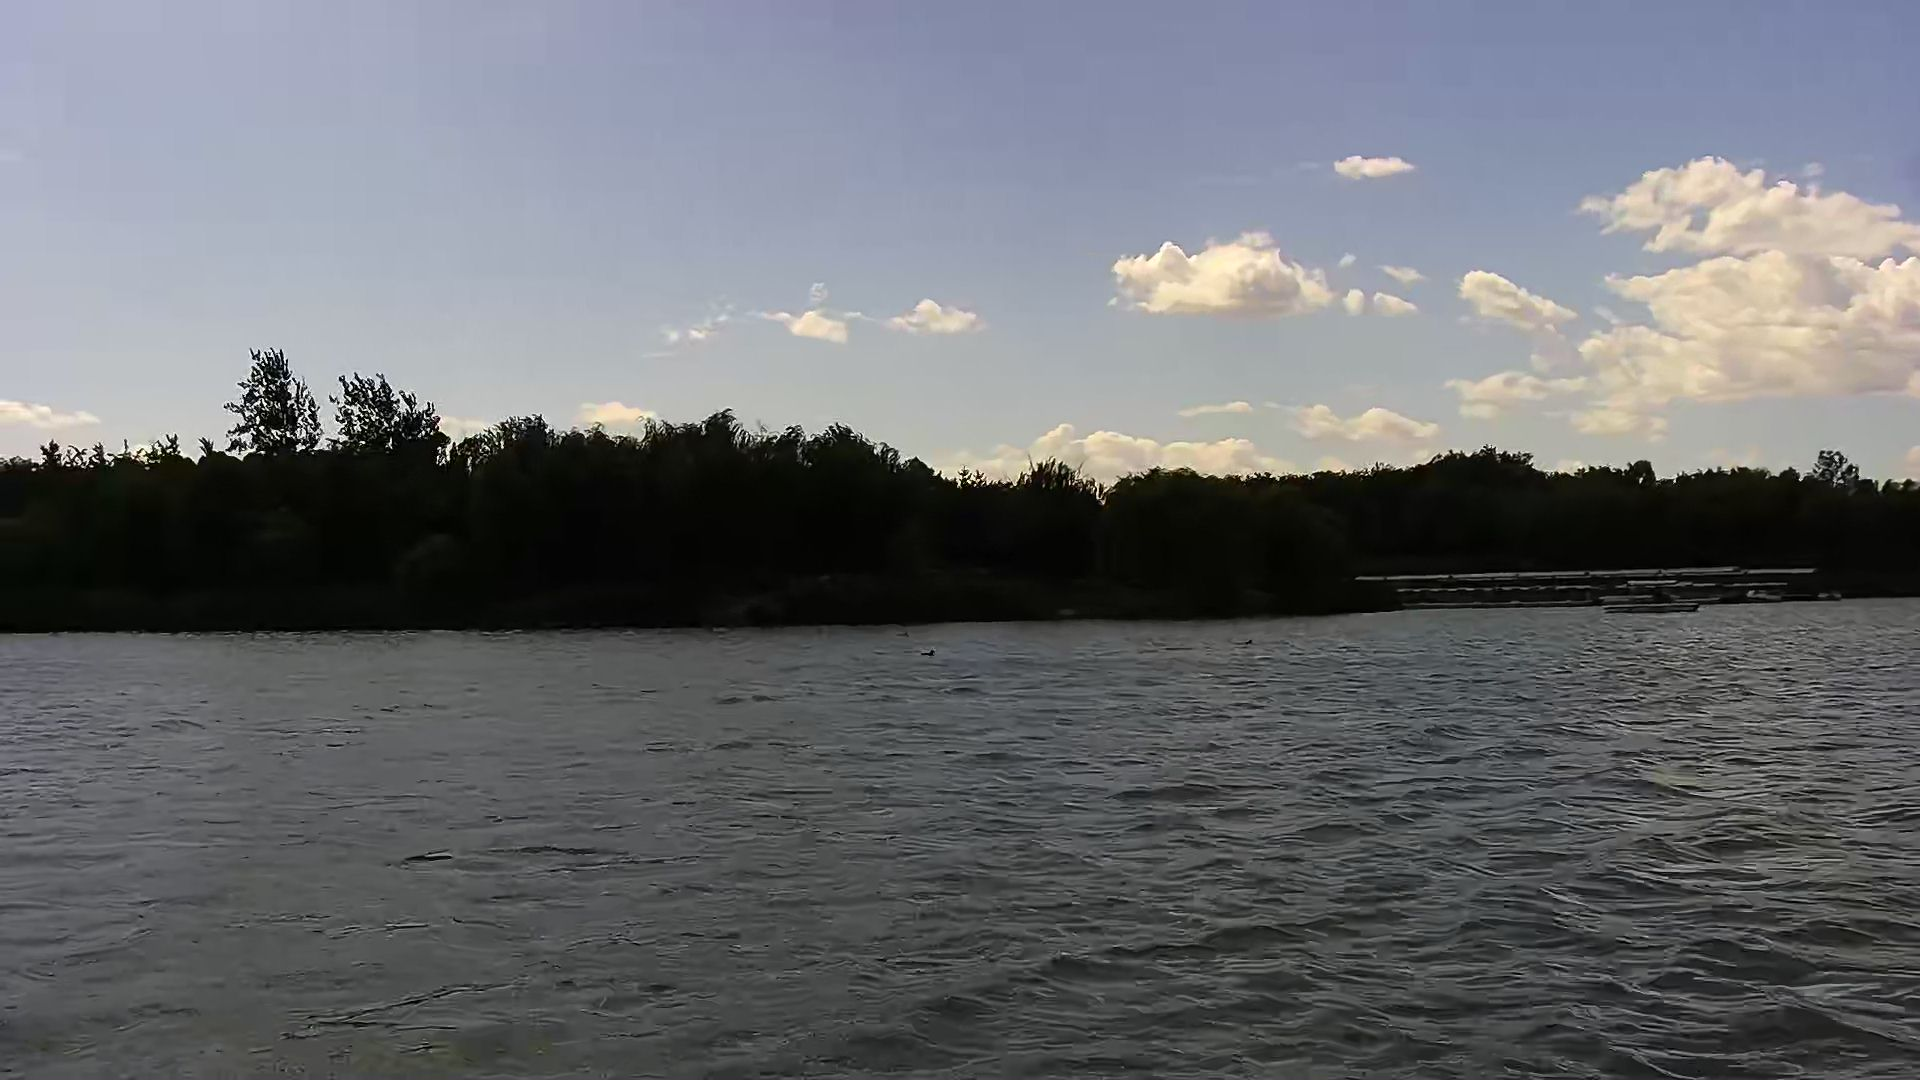boat: (1604, 576, 1705, 618)
harbor: (1350, 572, 1807, 608)
